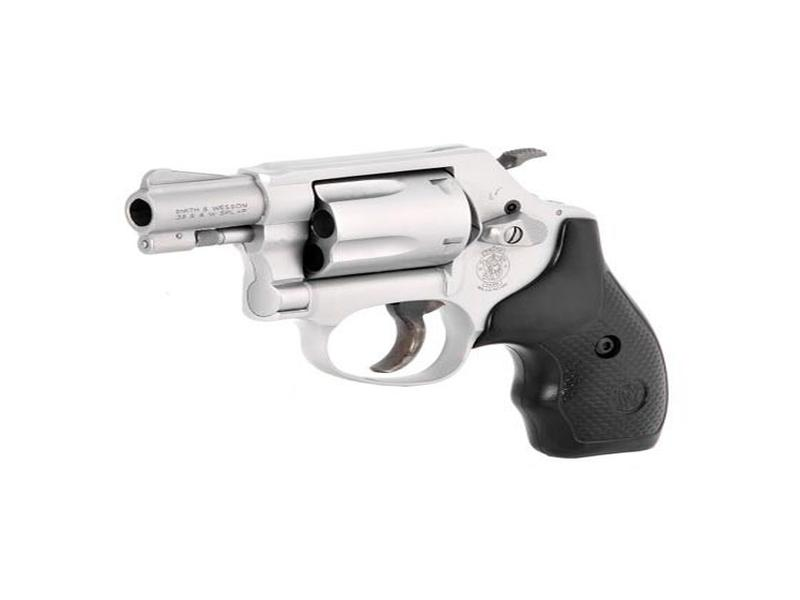Revolver: (127, 138, 667, 402)
